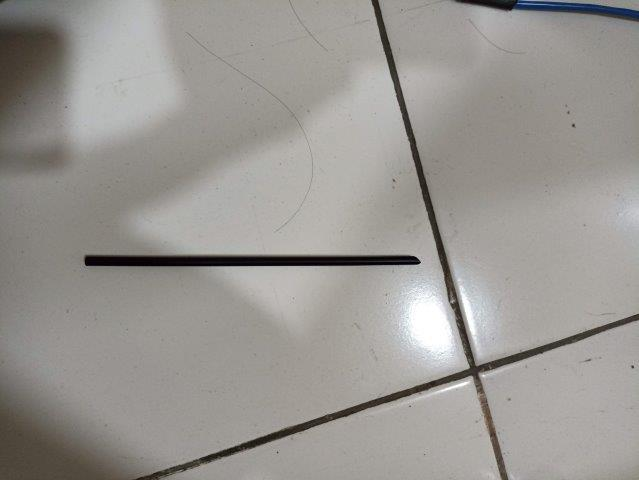sedotan: (85, 256, 421, 267)
